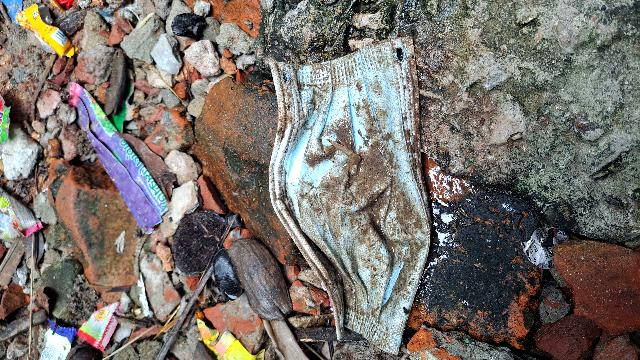mask: (241, 20, 459, 358)
